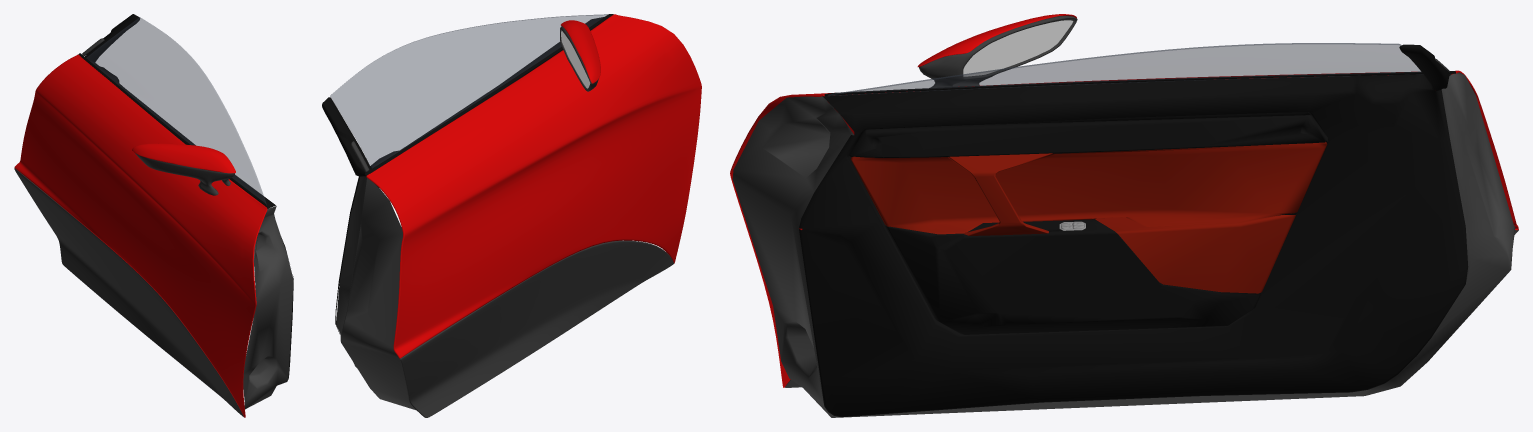
3 renders of one model, left to right at view 1: azimuth 30°, elevation 25°; view 2: azimuth 150°, elevation 25°; view 3: azimuth 270°, elevation 25°, orthographic. The views are drawn at different scales.
Parts seen in each view (by area): view 1: BodyDoorRColor1, BodyDoorRWindow, BodyDoorRColor2, InteriorDoorR01, BodyDoorRHandle01; view 2: BodyDoorRColor1, BodyDoorRColor2, BodyDoorRWindow, InteriorDoorR01, BodyDoorRHandle01, BodyDoorRMirror; view 3: InteriorDoorR01, InteriorDoorR03, BodyDoorRWindow, BodyDoorRColor1, BodyDoorRHandle01, BodyDoorRMirror, BodyDoorRColor2.
Part boxes in pixels (x1=…): BodyDoorRColor1: x1=14, y1=54, x2=267, y2=417; BodyDoorRWindow: x1=86, y1=17, x2=266, y2=204; BodyDoorRColor2: x1=14, y1=38, x2=243, y2=416; InteriorDoorR01: x1=90, y1=61, x2=293, y2=409; BodyDoorRHandle01: x1=78, y1=14, x2=267, y2=207; BodyDoorRColor1: x1=366, y1=14, x2=701, y2=358; BodyDoorRColor2: x1=351, y1=26, x2=673, y2=417; BodyDoorRWindow: x1=330, y1=14, x2=607, y2=168; InteriorDoorR01: x1=335, y1=17, x2=603, y2=409; BodyDoorRHandle01: x1=322, y1=14, x2=613, y2=176; BodyDoorRMirror: x1=561, y1=30, x2=590, y2=88; InteriorDoorR01: x1=732, y1=72, x2=1515, y2=417; InteriorDoorR03: x1=850, y1=142, x2=1327, y2=293; BodyDoorRWindow: x1=828, y1=43, x2=1421, y2=95; BodyDoorRColor1: x1=730, y1=14, x2=1518, y2=387; BodyDoorRHandle01: x1=824, y1=44, x2=1455, y2=95; BodyDoorRMirror: x1=963, y1=20, x2=1073, y2=76; BodyDoorRColor2: x1=785, y1=16, x2=1518, y2=387.
Size of the model in its own units: 0.4344 by 0.9594 by 1.67.
